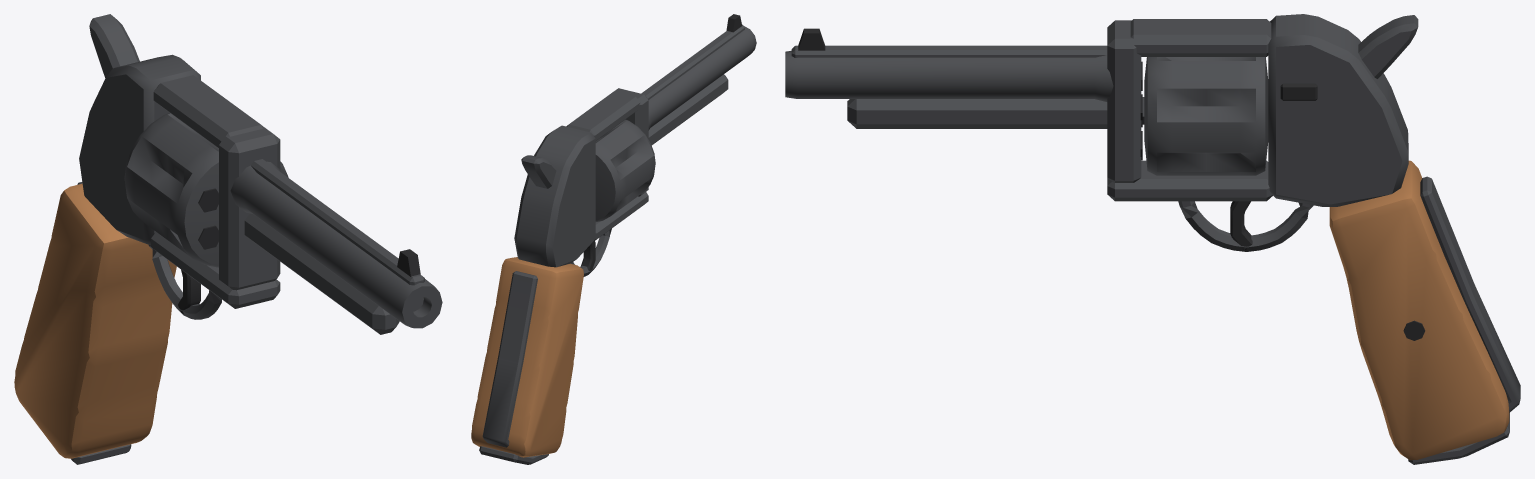
Rendered from PropRevolver.fbx.
The picture shows the model from 3 angles, left to right: view 1: azimuth 30°, elevation 25°; view 2: azimuth 150°, elevation 25°; view 3: azimuth 270°, elevation 25°; orthographic projection. The views are drawn at different scales.
Parts seen in each view (by area): view 1: PropRevolver_Mesh; view 2: PropRevolver_Mesh; view 3: PropRevolver_Mesh.
Part boxes in pixels (x1,y1,x2,y2): PropRevolver_Mesh: [14, 14, 442, 464]; PropRevolver_Mesh: [471, 14, 756, 464]; PropRevolver_Mesh: [785, 14, 1520, 464].
Size of the model in its own units: 0.042 by 0.1548 by 0.2375.
